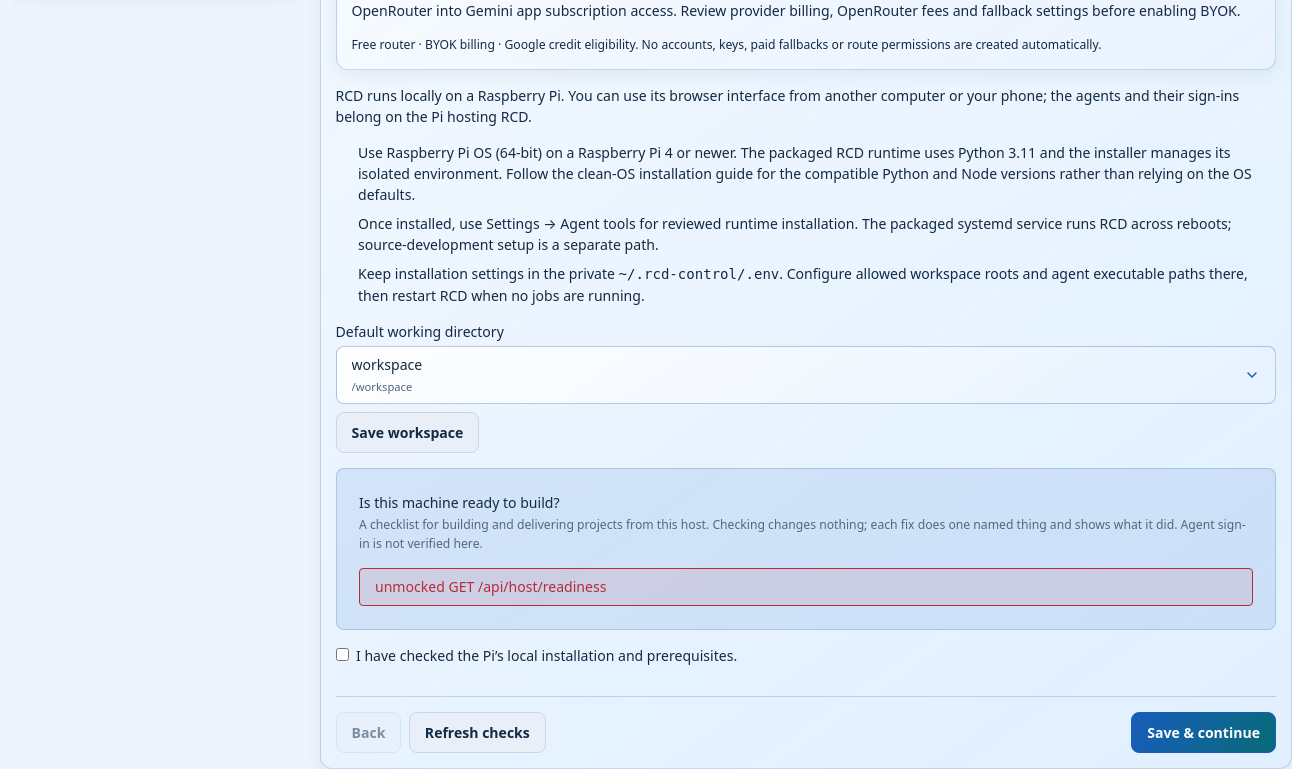
Test: resumes steps in the profile without touching permissions, native agents or unrelated defaults
(page scrolled)
Click the button "Save & continue" at (1204, 732), box [1131,712,1276,753]
(page scrolled)
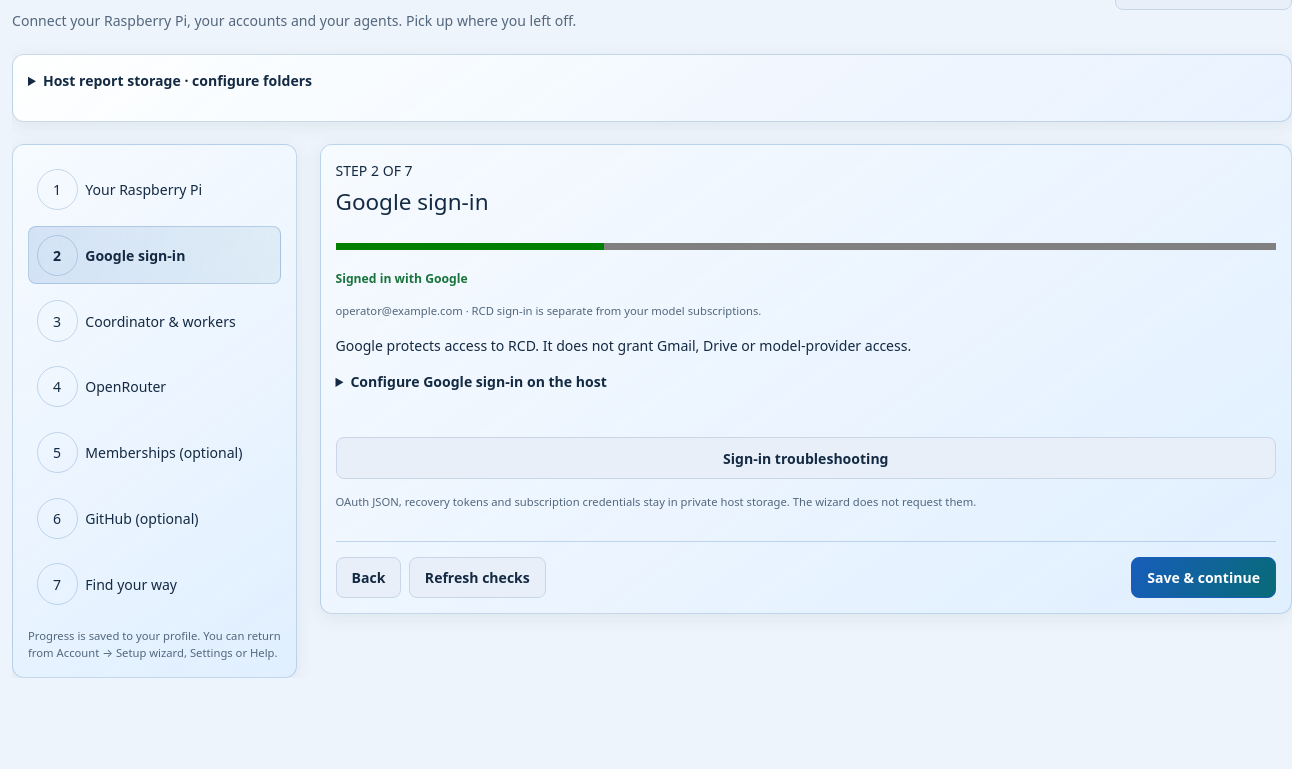
Expected: the heading "Google sign-in" is shown, [336,186,489,217]
